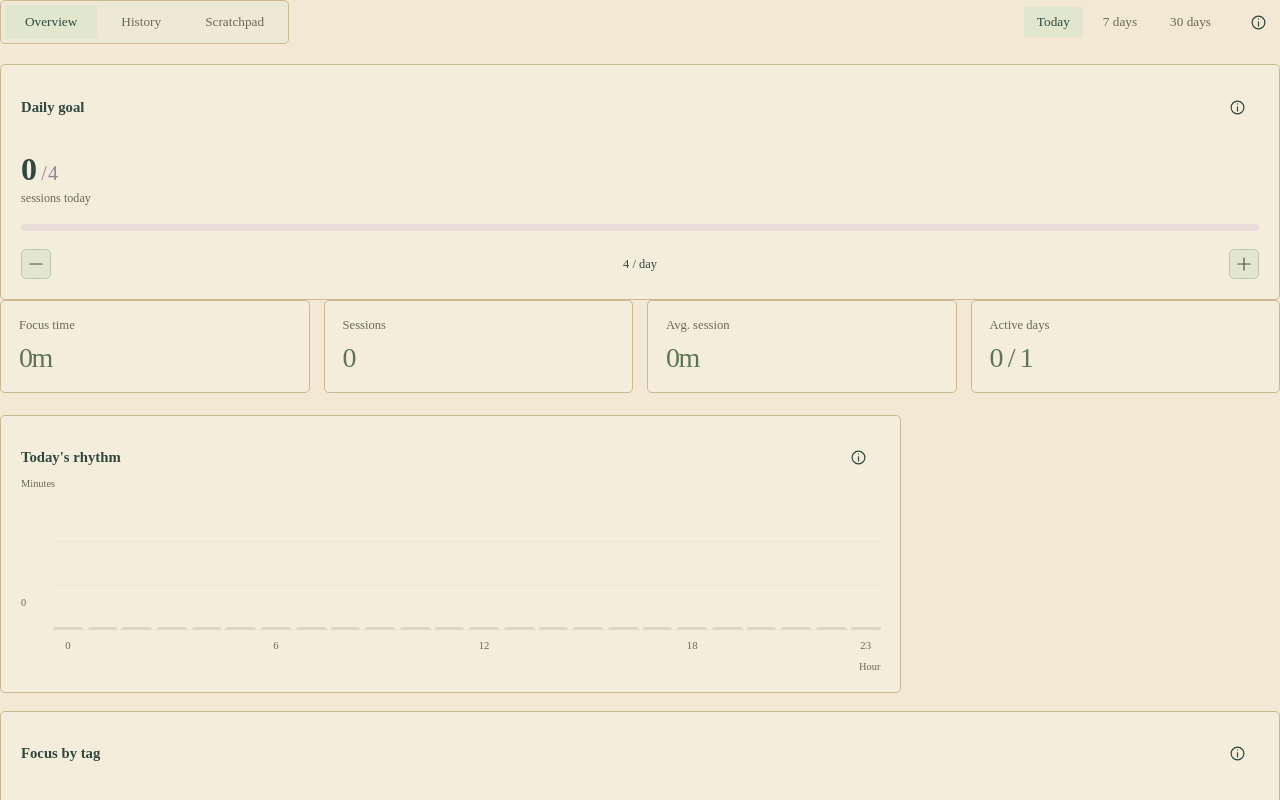
it: scratchpad saves edits while details stay behind its info control
Click the button "Scratchpad" at (235, 22), box 185,5 -> 284,39
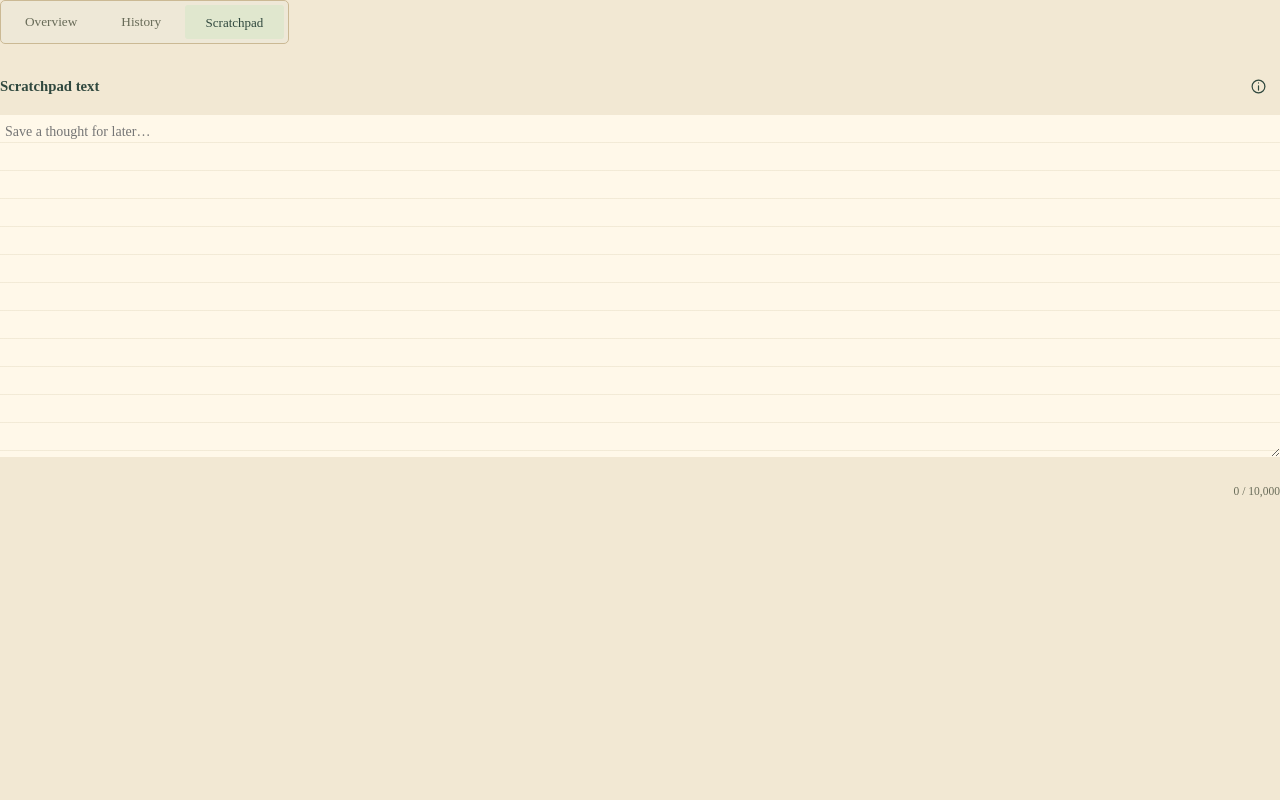
Check: the text "Saved on this computer" is not shown
Type "Remember this after focus." into the text box labelled "Scratchpad text" at (640, 286), box 0,115 -> 1279,457
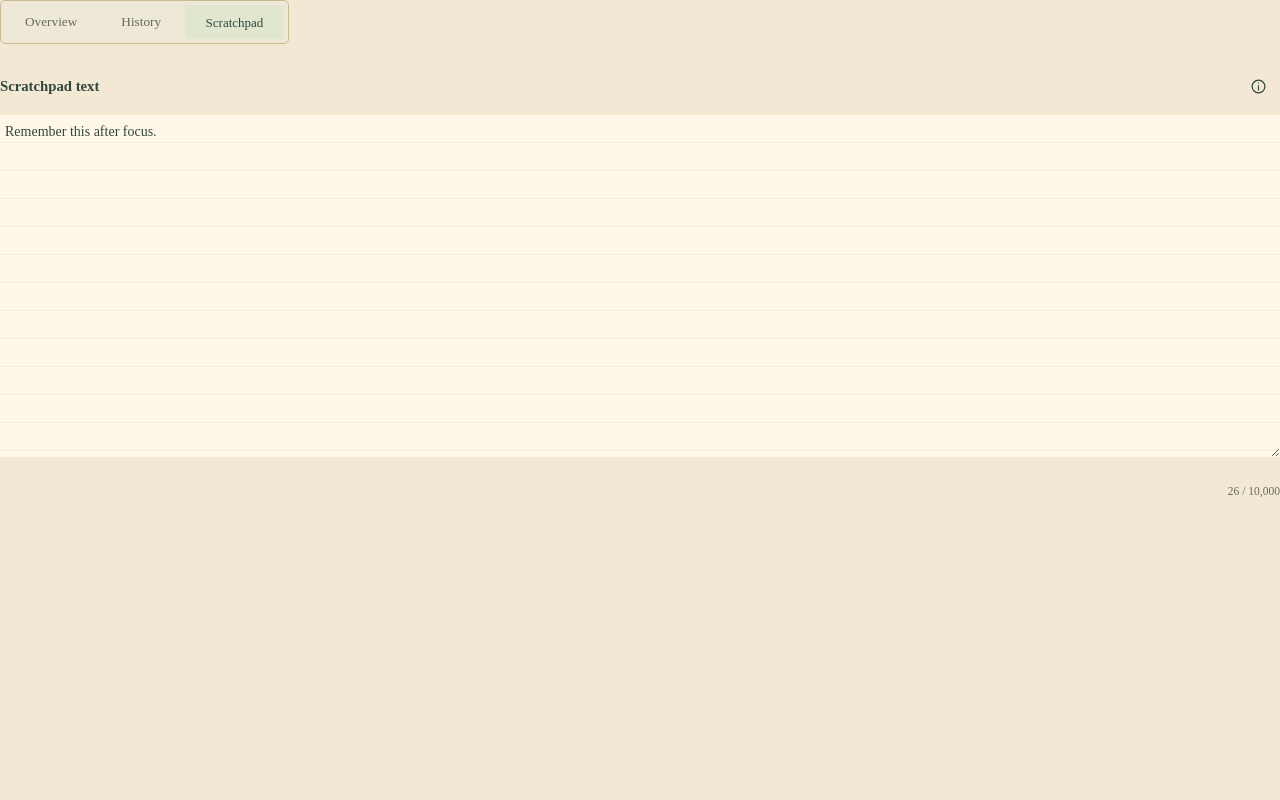
Click the button named "About scratchpad" at (1258, 86), box 1236,64 -> 1279,108
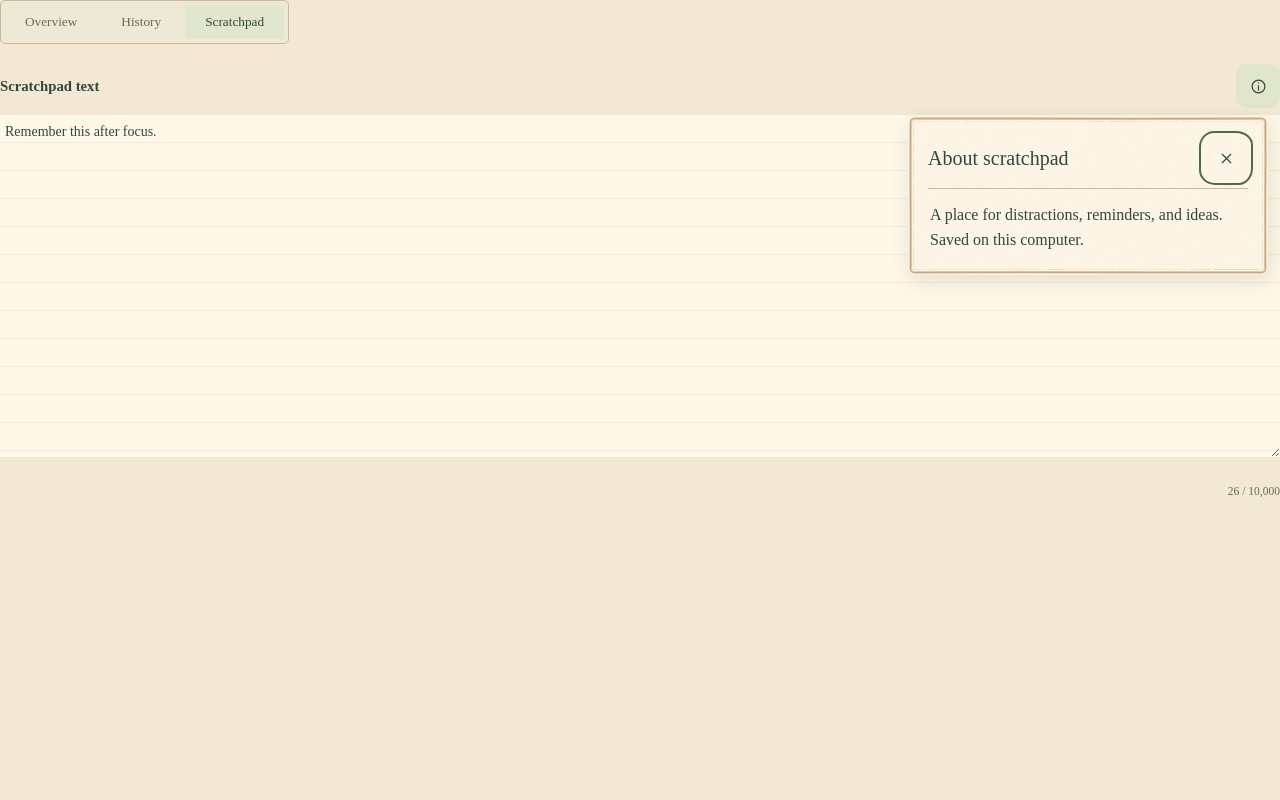
Check: the text "Saved on this computer" is shown, box 930,206 -> 1223,248
